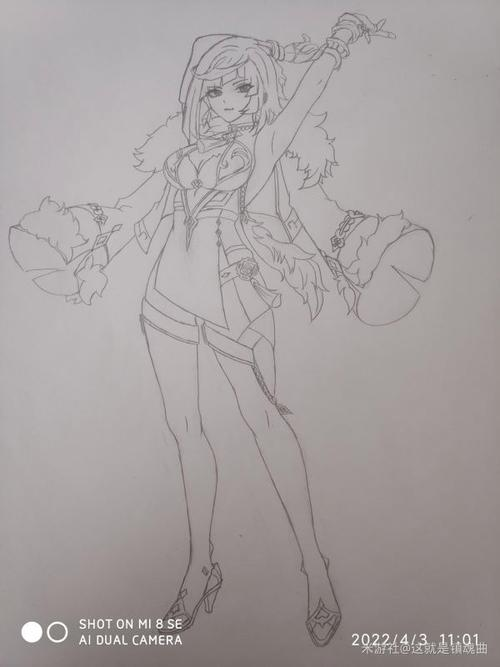夜兰: (134, 12, 398, 647)
